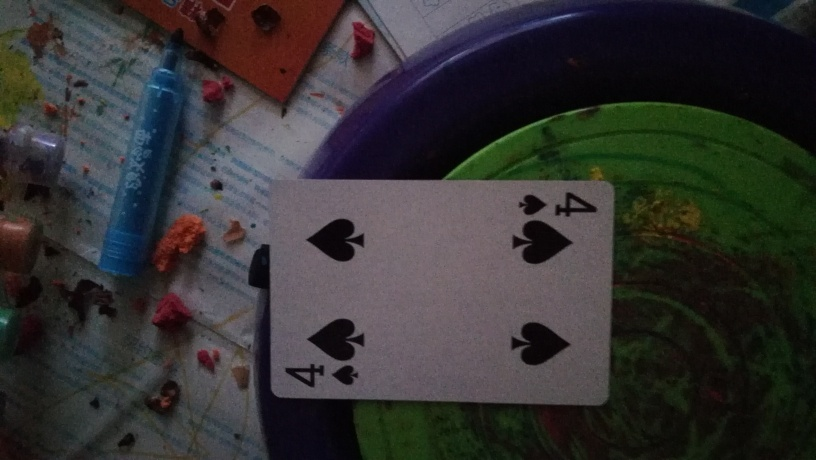ht 4: (269, 179, 617, 408)
